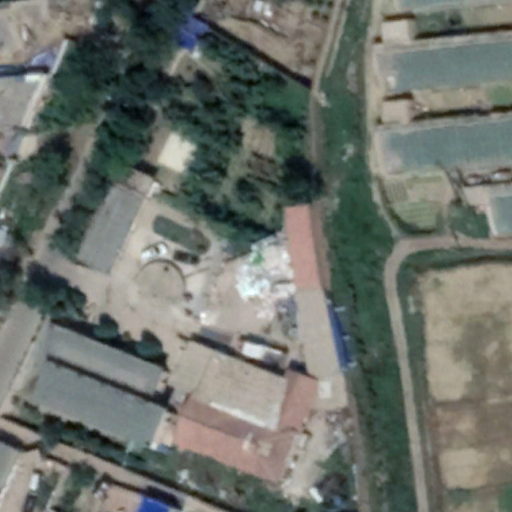msw: (235, 233, 300, 342)
